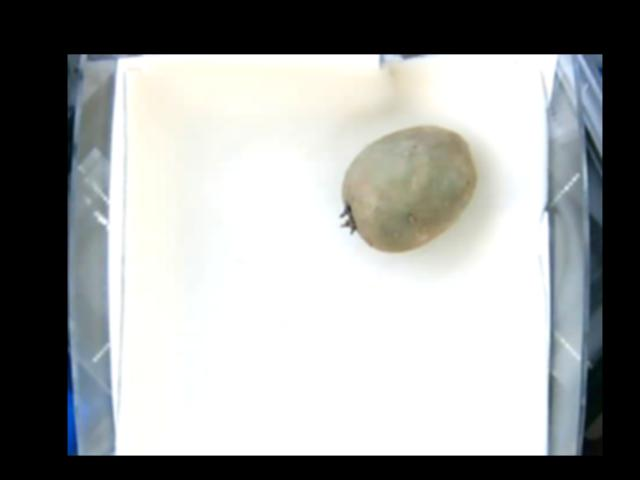Potato: (338, 122, 477, 257)
